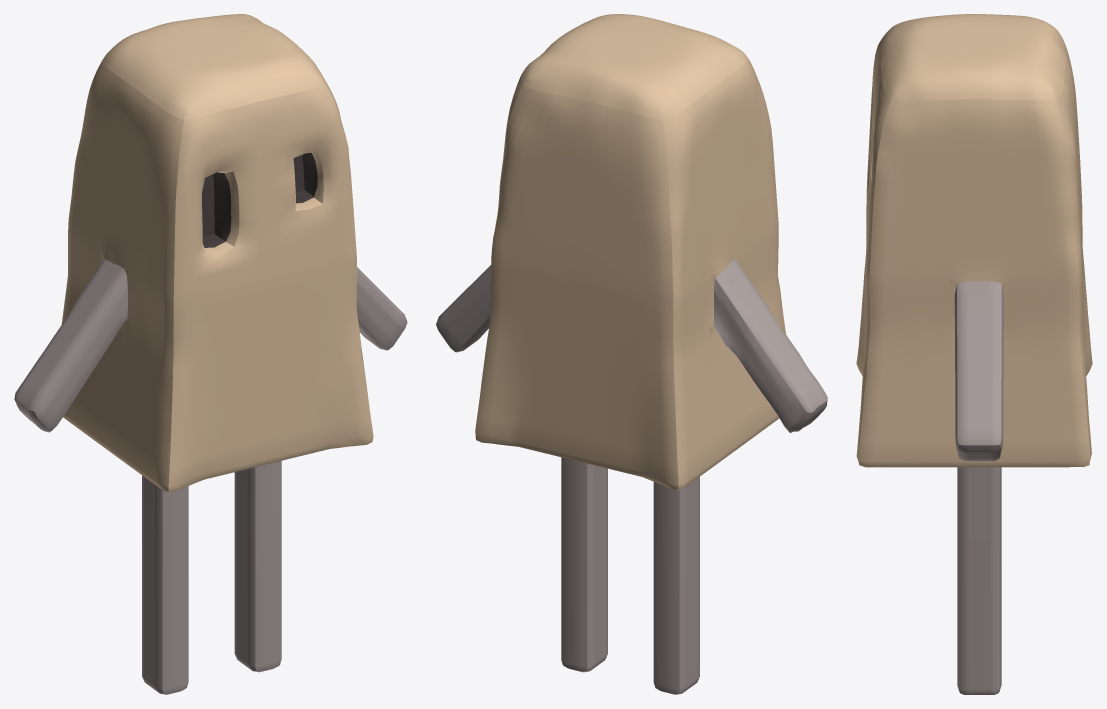
The model's file is SM_Worker_Low.fbx.
3 views of the same model, side by side, from view 1: azimuth 30°, elevation 25°; view 2: azimuth 150°, elevation 25°; view 3: azimuth 270°, elevation 25° (orthographic).
Parts seen in each view (by area): view 1: SM_Worker_Low; view 2: SM_Worker_Low; view 3: SM_Worker_Low.
Part boxes in pixels (box(x1,y1,x2,y2)): SM_Worker_Low: box(14, 14, 407, 694); SM_Worker_Low: box(436, 14, 827, 694); SM_Worker_Low: box(856, 14, 1092, 694).
Bounding box in the file's own units: 2 × 3.21 × 1.09.
